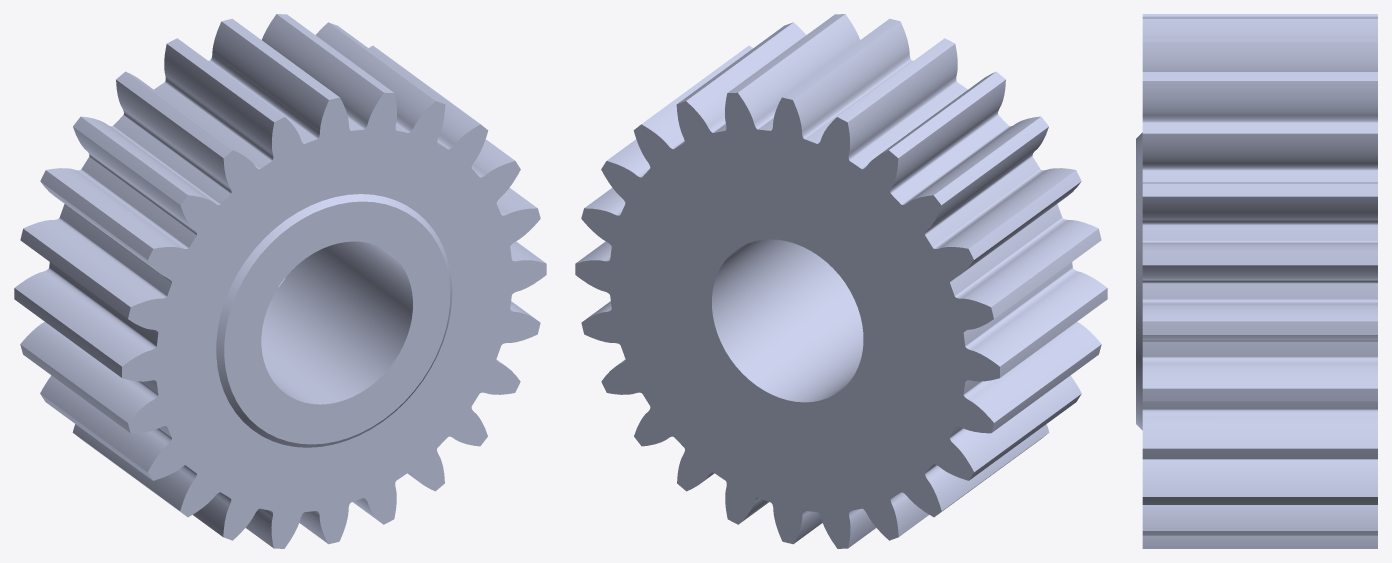
Rendered from REV_21_2102_P05_7_solid1.obj.
3 renders of one model, left to right at view 1: azimuth 30°, elevation 25°; view 2: azimuth 150°, elevation 25°; view 3: azimuth 270°, elevation 25°, orthographic. The views are drawn at different scales.
Visible parts, largest first — view 1: mesh24406, mesh24403, mesh24405, mesh24478, mesh24453, mesh24441, mesh24475, mesh24457, mesh24450, mesh24438, mesh24445, mesh24460 (+26 smaller); view 2: mesh24407, mesh24405, mesh24478, mesh24453, mesh24441, mesh24475, mesh24457, mesh24450, mesh24438, mesh24445, mesh24460, mesh24447 (+23 smaller); view 3: mesh24459, mesh24418, mesh24415, mesh24462, mesh24472, mesh24456, mesh24465, mesh24412, mesh24469, mesh24468, mesh24477, mesh24470 (+24 smaller).
Boxes of the visible parts, <box> form: mesh24406: <box>122,92,546,548</box>; mesh24403: <box>224,201,449,444</box>; mesh24405: <box>261,241,412,404</box>; mesh24478: <box>210,21,328,138</box>; mesh24453: <box>15,267,156,366</box>; mesh24441: <box>20,322,158,422</box>; mesh24475: <box>164,44,274,160</box>; mesh24457: <box>262,14,383,129</box>; mesh24450: <box>23,217,166,306</box>; mesh24438: <box>40,375,171,471</box>; mesh24445: <box>116,80,231,193</box>; mesh24460: <box>316,22,435,132</box>; mesh24407: <box>575,92,999,548</box>; mesh24405: <box>712,239,863,402</box>; mesh24478: <box>793,21,911,138</box>; mesh24453: <box>965,267,1106,366</box>; mesh24441: <box>963,322,1101,422</box>; mesh24475: <box>847,44,957,160</box>; mesh24457: <box>738,14,859,129</box>; mesh24450: <box>955,217,1098,306</box>; mesh24438: <box>950,375,1081,471</box>; mesh24445: <box>890,80,1005,193</box>; mesh24460: <box>686,22,805,132</box>; mesh24447: <box>933,168,1075,248</box>; mesh24459: <box>1142,81,1377,122</box>; mesh24418: <box>1142,409,1377,448</box>; mesh24415: <box>1142,459,1377,496</box>; mesh24462: <box>1142,133,1377,170</box>; mesh24472: <box>1142,356,1377,388</box>; mesh24456: <box>1142,41,1377,71</box>; mesh24465: <box>1142,196,1377,225</box>; mesh24412: <box>1142,505,1377,530</box>; mesh24469: <box>1142,299,1377,321</box>; mesh24468: <box>1142,265,1377,283</box>; mesh24477: <box>1142,19,1377,35</box>; mesh24470: <box>1142,283,1377,299</box>.
Size of the model in its own units: 0.0169 by 0.0169 by 0.00762.
